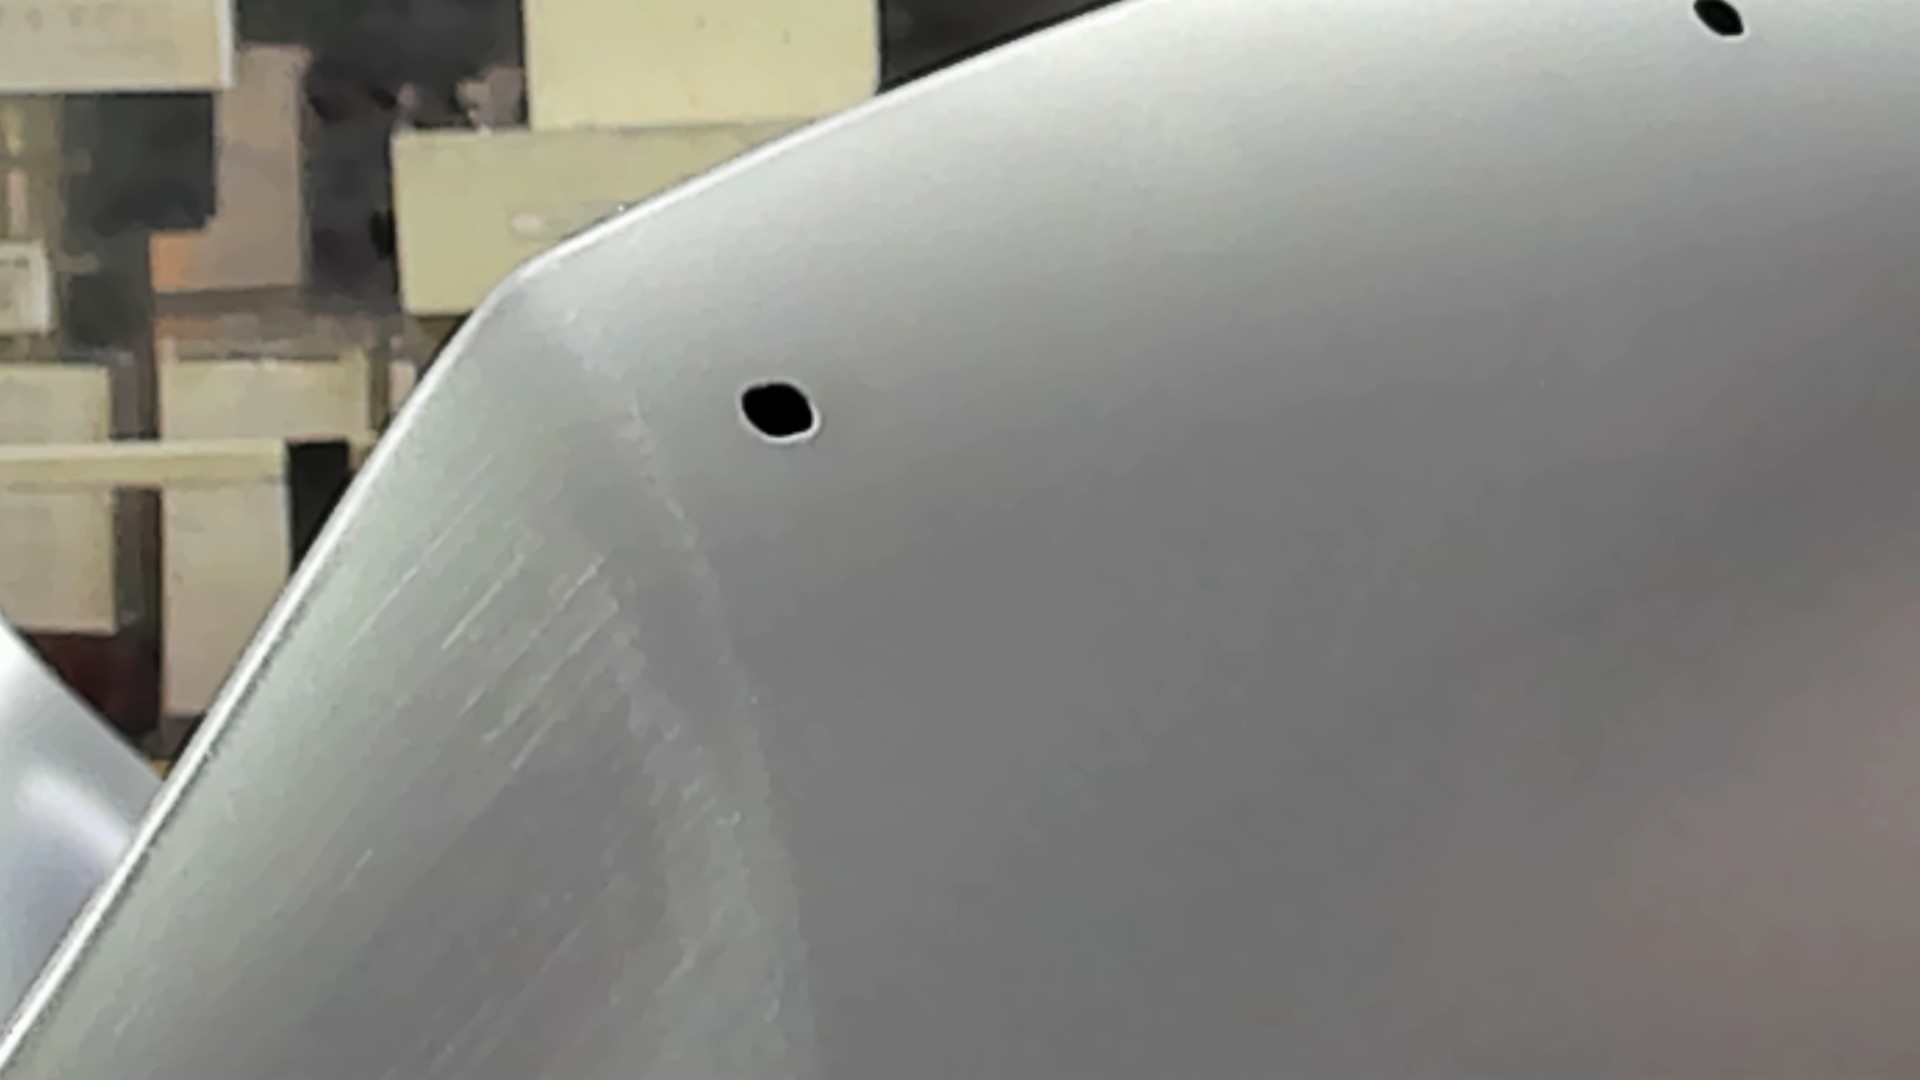amorfo: (731, 373, 823, 444), (1688, 1, 1754, 46)
capo: (872, 152, 1920, 1080)
